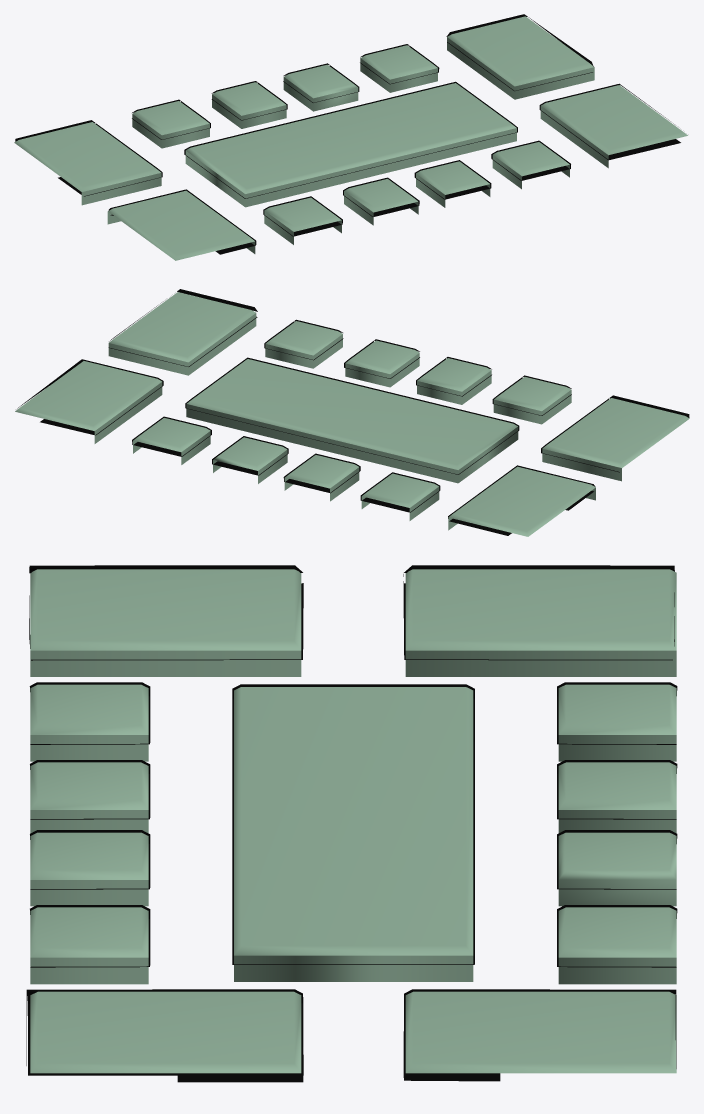
Rendered from Rooms_Paradise_CubePattern_Art.fbx.
3 renders of one model, top to bottom at view 1: azimuth 30°, elevation 25°; view 2: azimuth 150°, elevation 25°; view 3: azimuth 270°, elevation 25°, orthographic. The views are drawn at different scales.
Visible parts, largest first — view 1: Rooms_Paradise_CubePattern_Art, Rooms_Paradise_CubePattern_Outline; view 2: Rooms_Paradise_CubePattern_Art, Rooms_Paradise_CubePattern_Outline; view 3: Rooms_Paradise_CubePattern_Art, Rooms_Paradise_CubePattern_Outline.
Boxes of the visible parts, box(x1,y1,x2,y2) form: Rooms_Paradise_CubePattern_Art: box(14, 16, 687, 260); Rooms_Paradise_CubePattern_Outline: box(15, 14, 680, 254); Rooms_Paradise_CubePattern_Art: box(15, 292, 689, 536); Rooms_Paradise_CubePattern_Outline: box(17, 289, 689, 535); Rooms_Paradise_CubePattern_Art: box(30, 569, 676, 1073); Rooms_Paradise_CubePattern_Outline: box(26, 565, 677, 1082).
Bounding box in the file's own units: 912 × 29.89 × 500.
